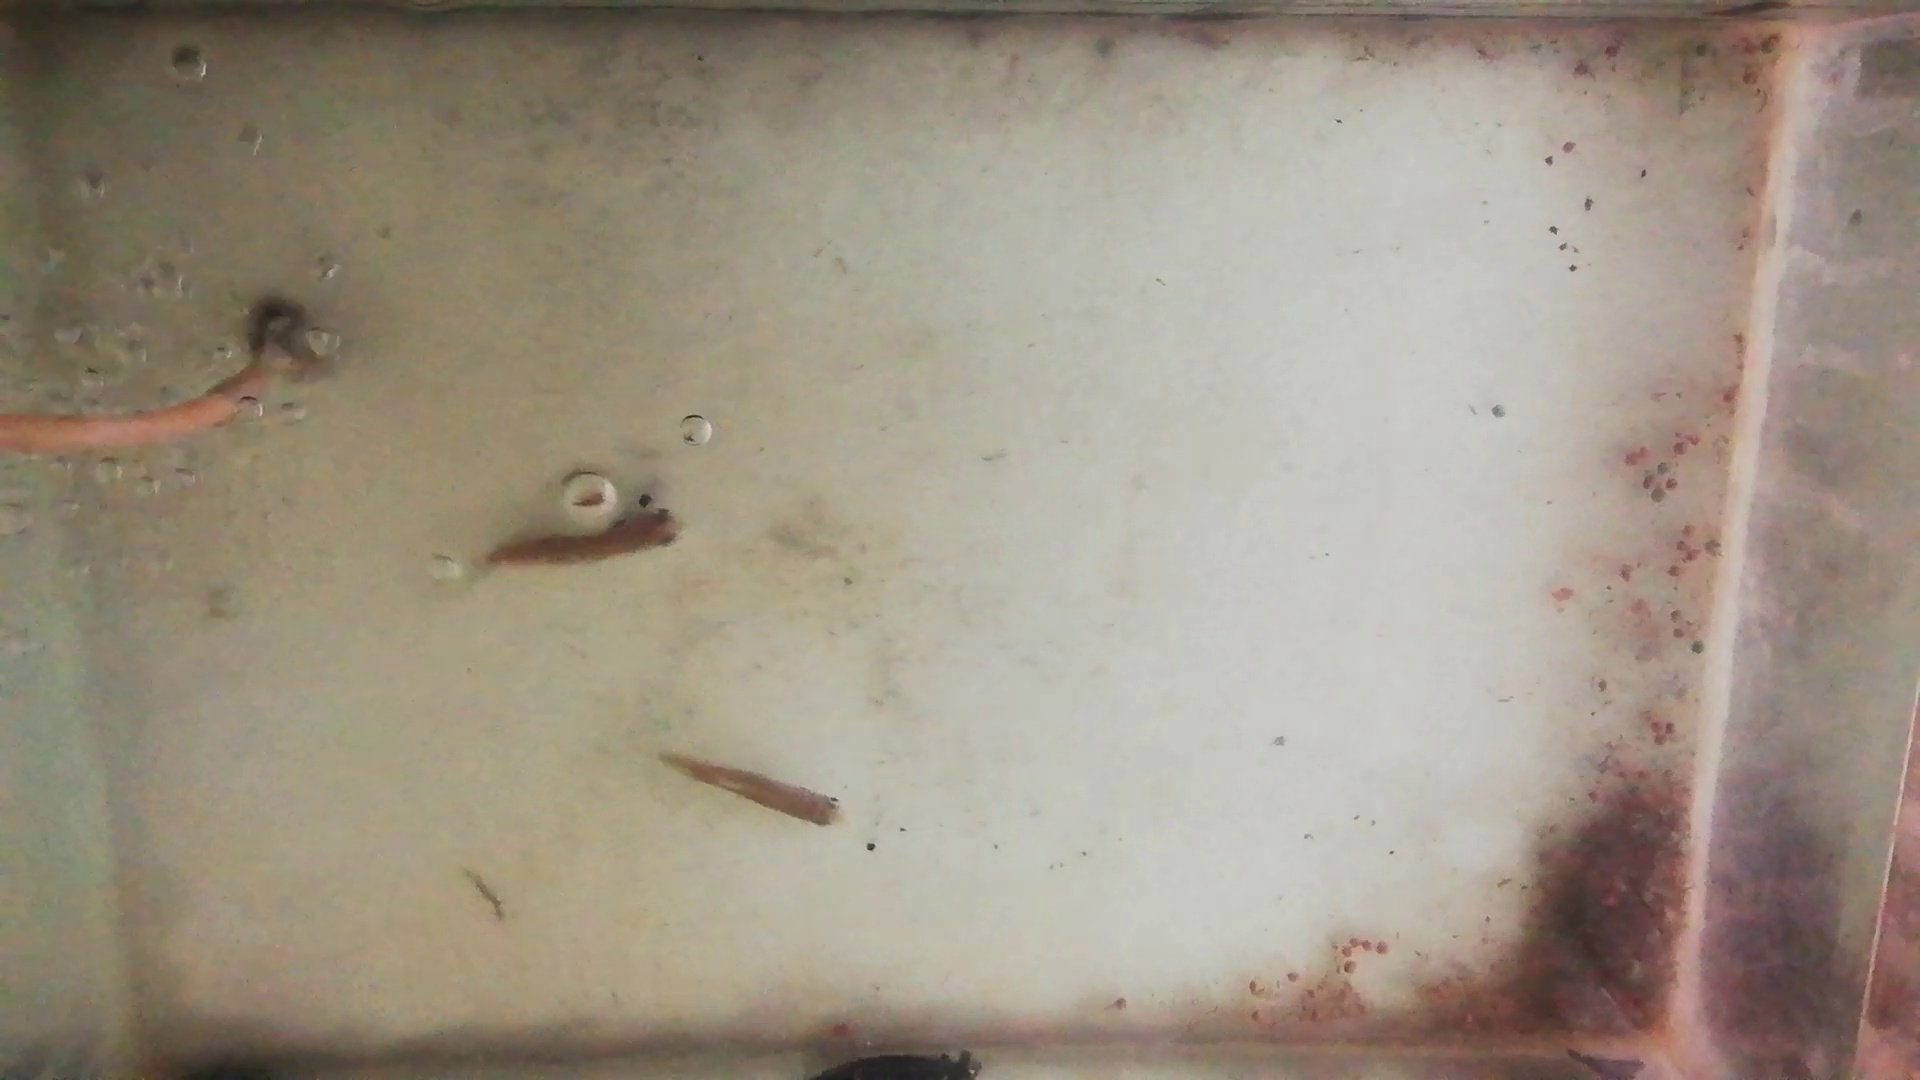fish: (658, 752, 843, 828), (484, 506, 683, 564)
